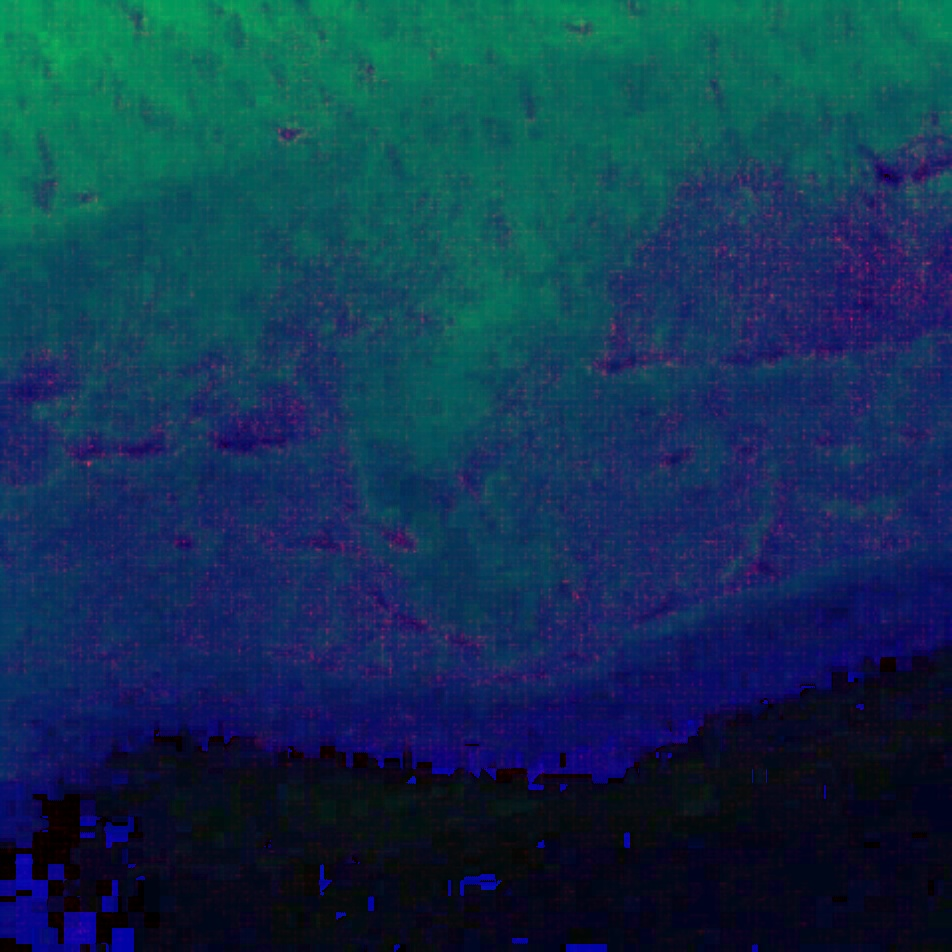rip_current: (290, 177, 705, 682)
